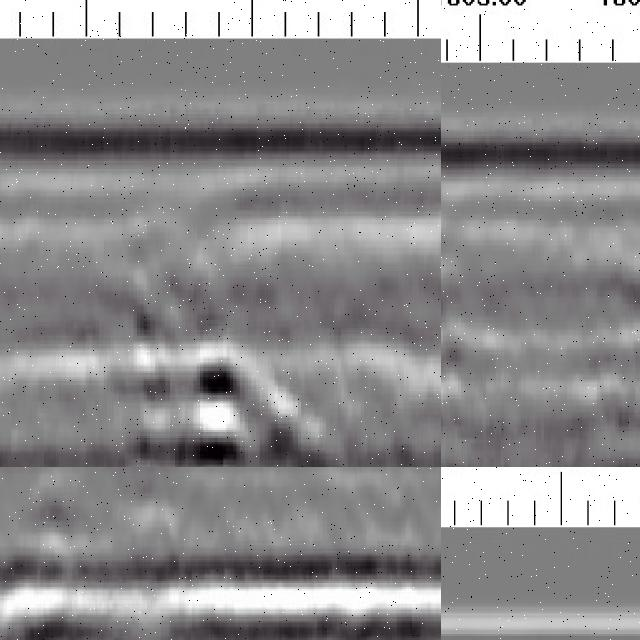loose: (123, 331, 312, 468)
